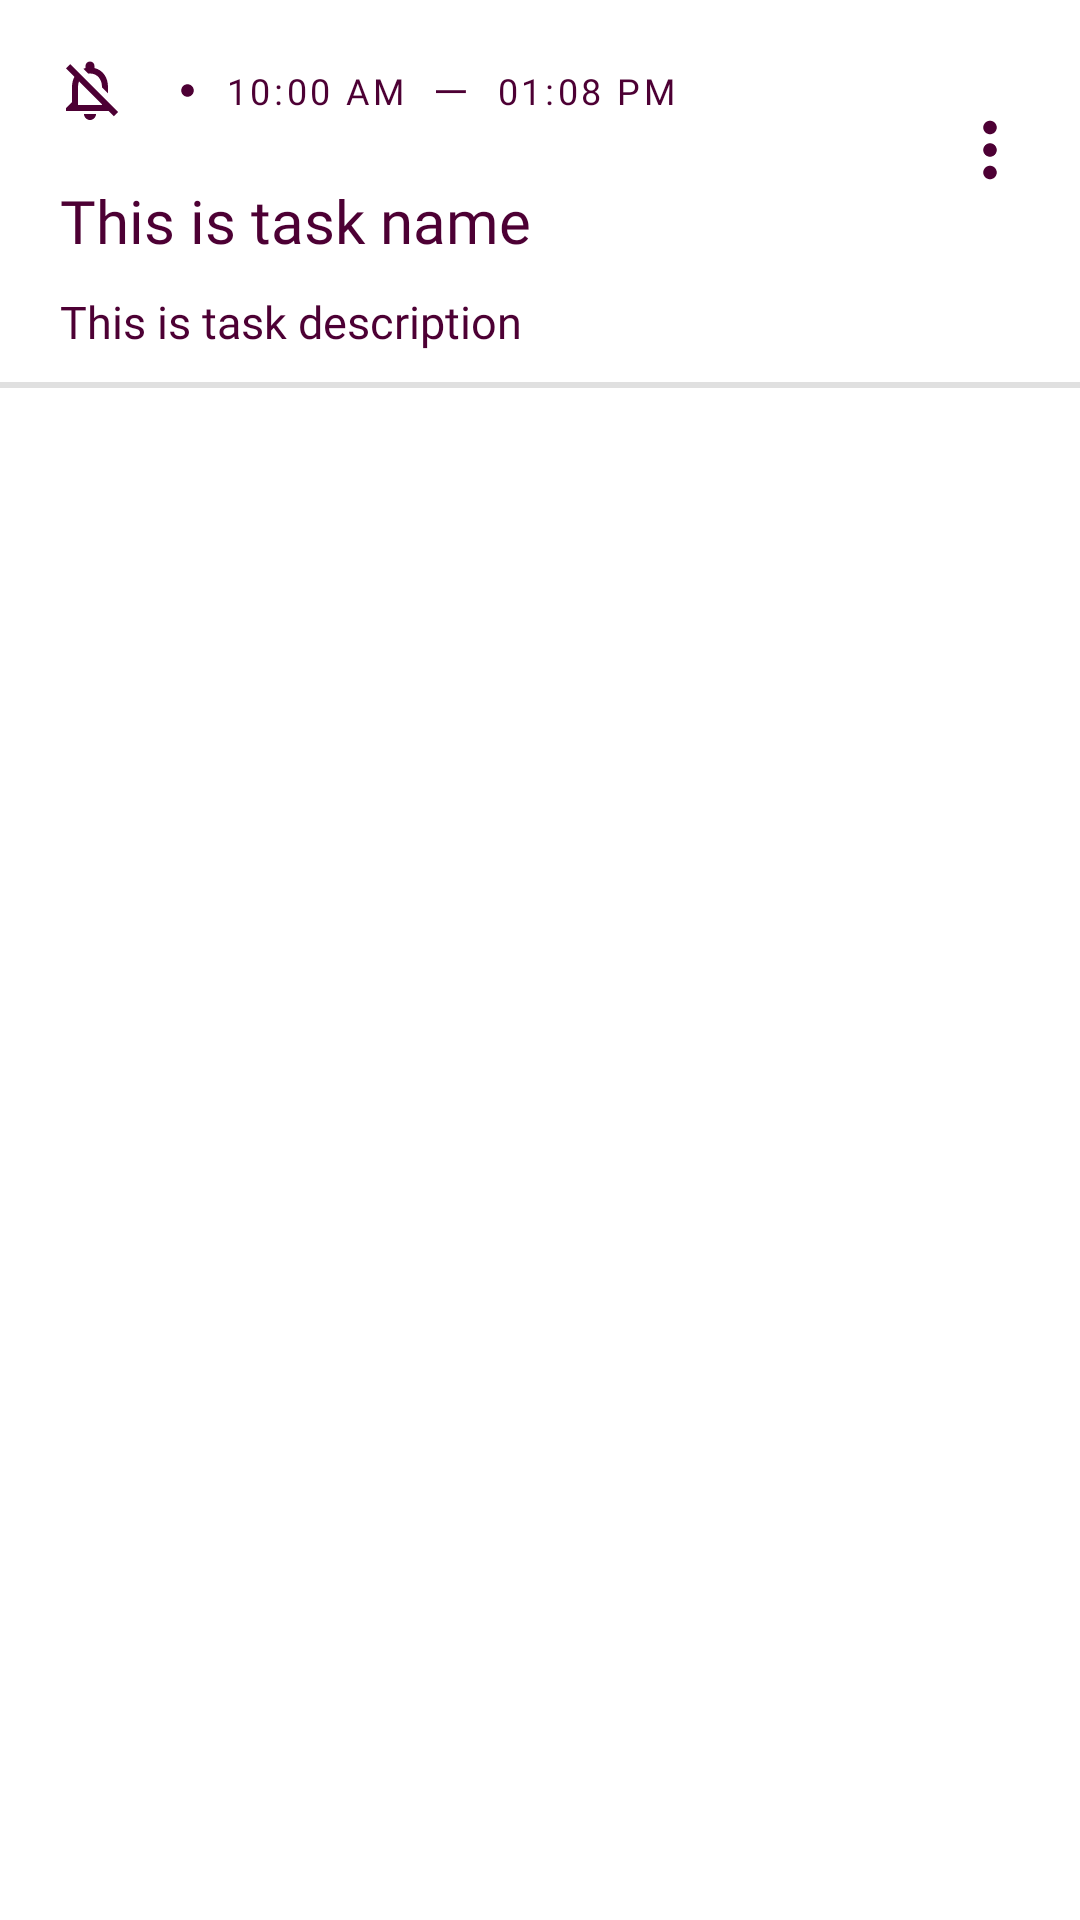

Icon click points for this 1080 × 1920 phone screenshot, format [x,y]:
menu: [990,150]
notifications off: [92,90]
